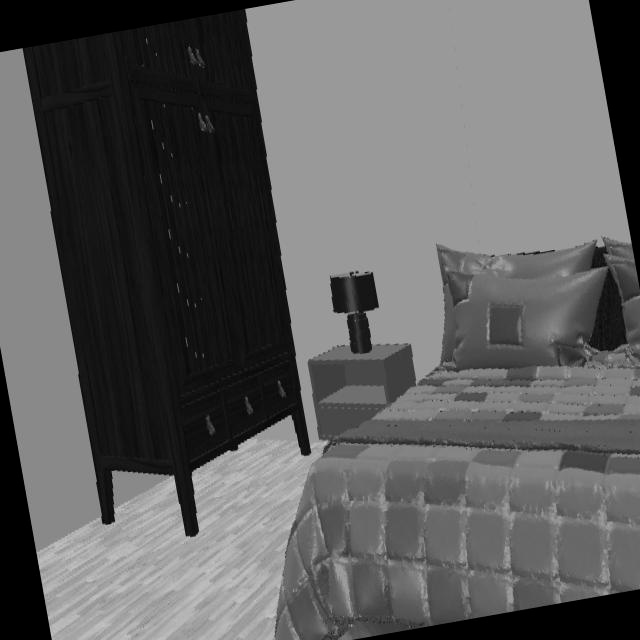bed: (274, 237, 640, 640)
lamp: (330, 272, 381, 354)
nighttable: (307, 344, 417, 441)
wardrobe: (21, 8, 310, 539)
